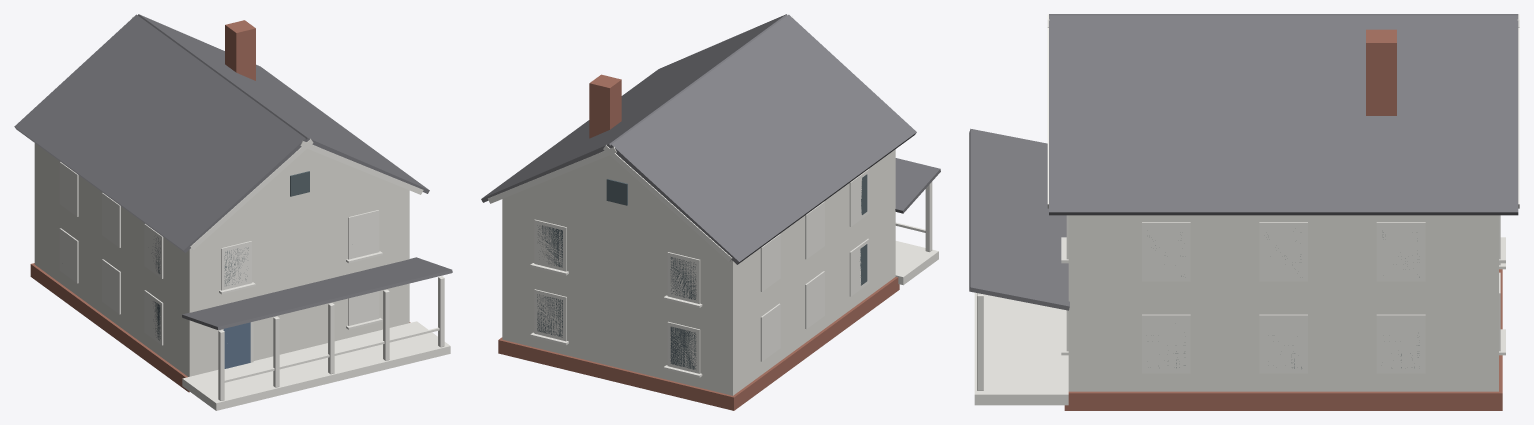
File: Farmhouse.fbx
The picture shows the model from 3 angles, left to right: view 1: azimuth 30°, elevation 25°; view 2: azimuth 150°, elevation 25°; view 3: azimuth 270°, elevation 25°; orthographic projection. The views are drawn at different scales.
Parts seen in each view (by area): view 1: Walls, Roof-1, PorchDeck, Roof1, PorchRoof, Foundation, Chimney, WF-12.64.2, WF-1-2.64.2, Door, WF-12.61.6, Fascia-1(0, 8.6) (+14 smaller); view 2: Walls, Roof-1, Roof1, Foundation, Chimney, PorchRoof, WF1-2.64.2, WF12.61.6, WF12.64.2, WF1-2.61.6, PorchDeck, Fascia1(0, 8.6) (+13 smaller); view 3: Roof1, Walls, PorchRoof, Foundation, PorchDeck, WFs134.2, WFs131.6, WFs1-31.6, WFs1-34.2, WFs101.6, WFs104.2, Chimney (+2 smaller).
Part boxes in pixels (x1,y1,x2,y2): Walls: [34, 143, 409, 376]; Roof-1: [14, 14, 307, 252]; PorchDeck: [182, 321, 450, 410]; Roof1: [138, 14, 429, 193]; PorchRoof: [182, 257, 452, 330]; Foundation: [30, 263, 410, 392]; Chimney: [225, 20, 255, 80]; WF-12.64.2: [348, 210, 379, 259]; WF-1-2.64.2: [221, 241, 251, 290]; Door: [223, 322, 250, 368]; WF-12.61.6: [348, 291, 379, 325]; Fascia-1(0, 8.6): [190, 138, 313, 250]; Walls: [502, 149, 895, 395]; Roof-1: [609, 14, 916, 264]; Roof1: [481, 14, 787, 202]; Foundation: [498, 277, 899, 410]; Chimney: [589, 74, 621, 138]; PorchRoof: [895, 158, 940, 213]; WF1-2.64.2: [667, 252, 700, 303]; WF12.61.6: [534, 289, 566, 341]; WF12.64.2: [534, 219, 566, 271]; WF1-2.61.6: [667, 321, 700, 373]; PorchDeck: [895, 241, 938, 285]; Fascia1(0, 8.6): [603, 145, 731, 261]; Roof1: [1049, 15, 1518, 215]; Walls: [1068, 215, 1498, 391]; PorchRoof: [969, 128, 1069, 310]; Foundation: [1064, 269, 1502, 410]; PorchDeck: [974, 292, 1068, 405]; WFs134.2: [1376, 222, 1425, 281]; WFs131.6: [1376, 314, 1425, 373]; WFs1-31.6: [1142, 314, 1190, 373]; WFs1-34.2: [1142, 222, 1190, 281]; WFs101.6: [1259, 314, 1307, 373]; WFs104.2: [1259, 222, 1307, 281]; Chimney: [1366, 29, 1396, 115].
Bounding box in the file's own units: 10.08 × 9.45 × 14.06.
